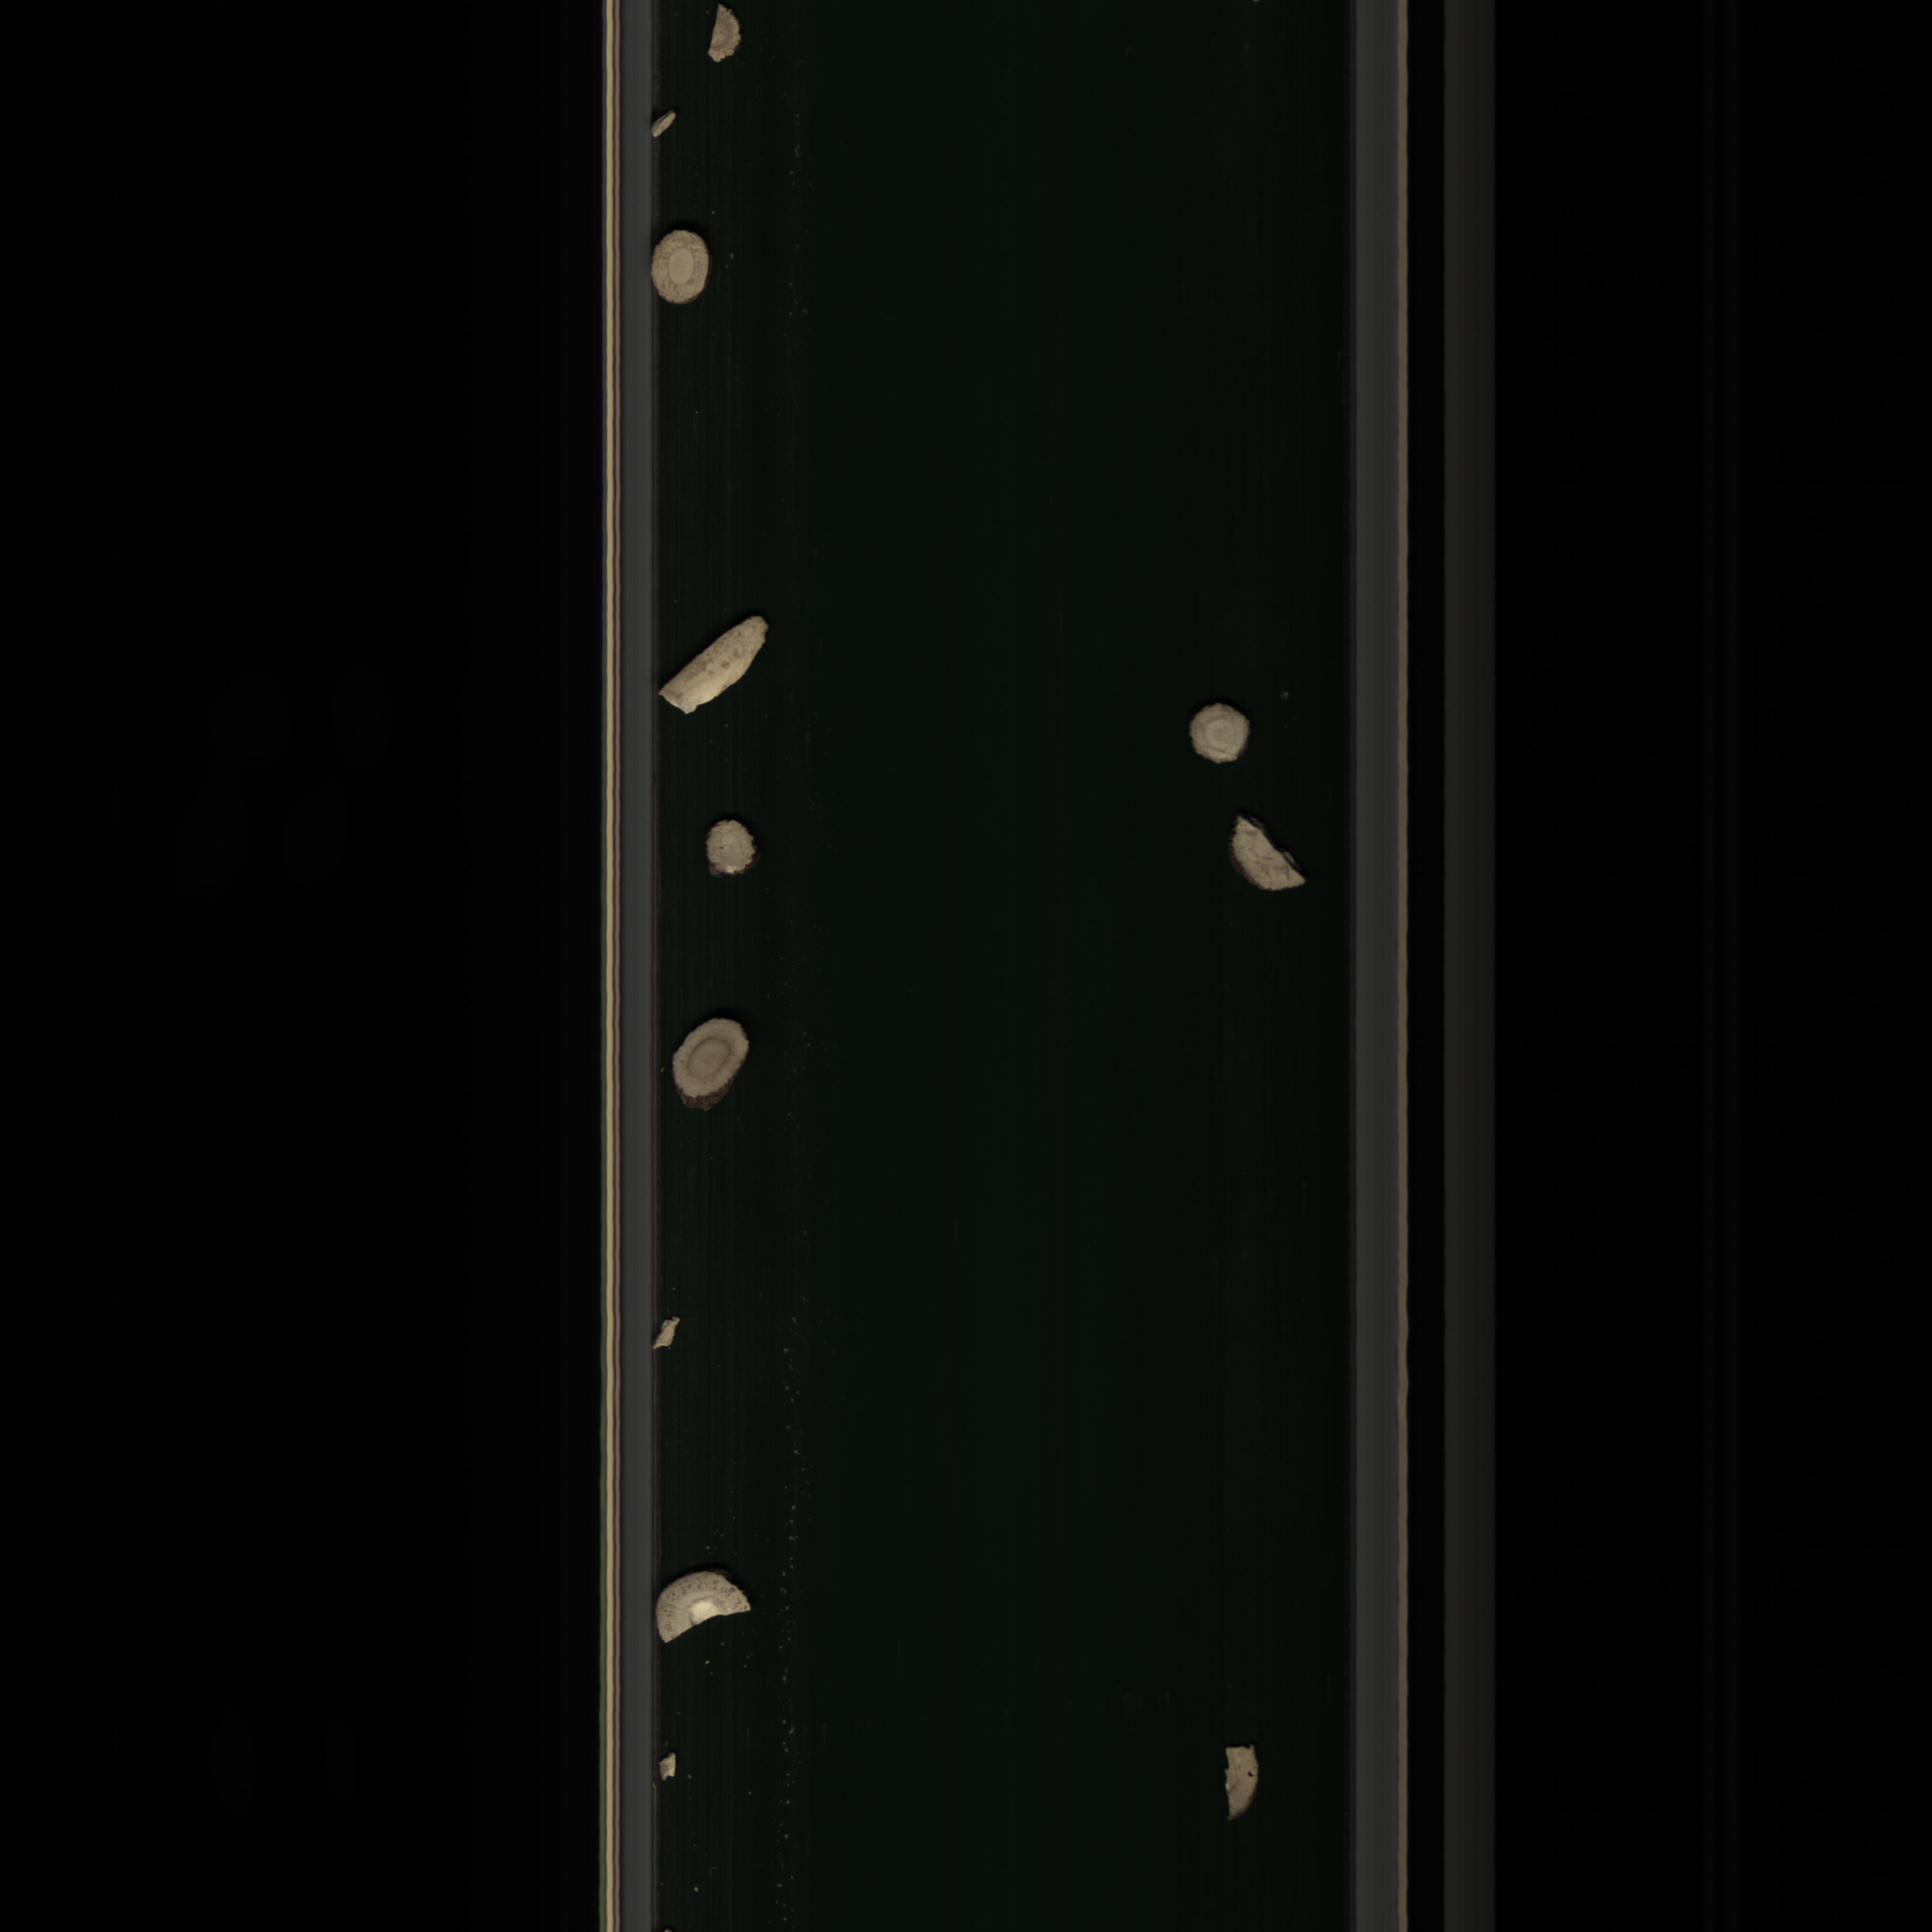debris: (658, 609, 780, 718), (1214, 803, 1309, 901), (660, 1562, 759, 1654), (1217, 1739, 1267, 1824), (649, 1315, 690, 1355), (649, 108, 686, 134)
moldy: (702, 5, 750, 65)
